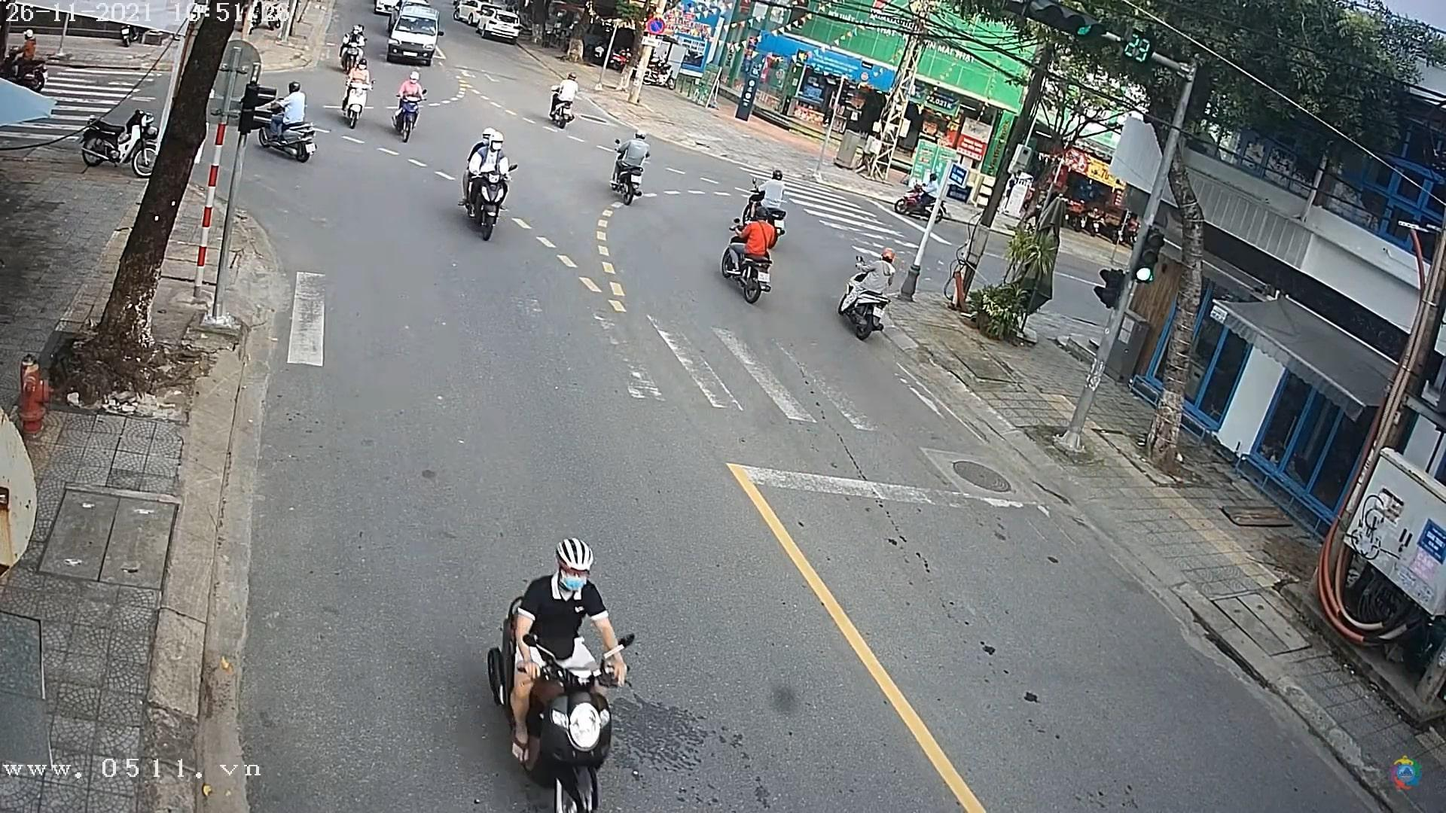car: (383, 6, 444, 67)
motorbike: (488, 586, 633, 812), (459, 157, 514, 230)
